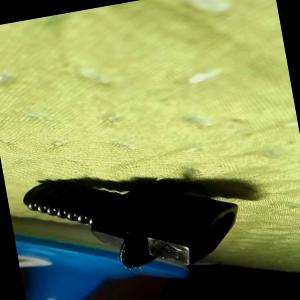parafuso: (17, 146, 246, 292)
